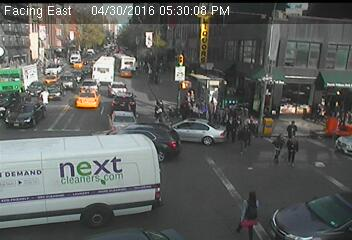neg: (165, 32, 197, 75), (282, 62, 303, 89), (66, 66, 81, 86), (83, 58, 94, 73)
pos: (233, 191, 268, 237), (282, 134, 307, 167), (266, 131, 290, 163), (36, 85, 55, 110)
